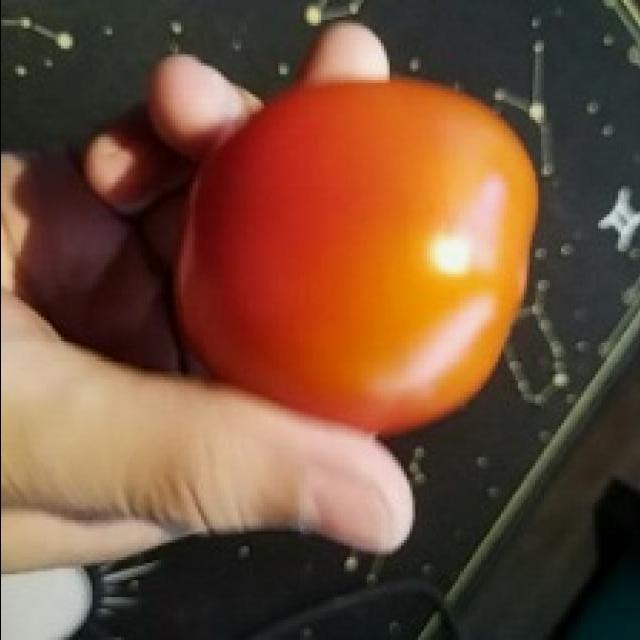tomato: (164, 56, 556, 471)
